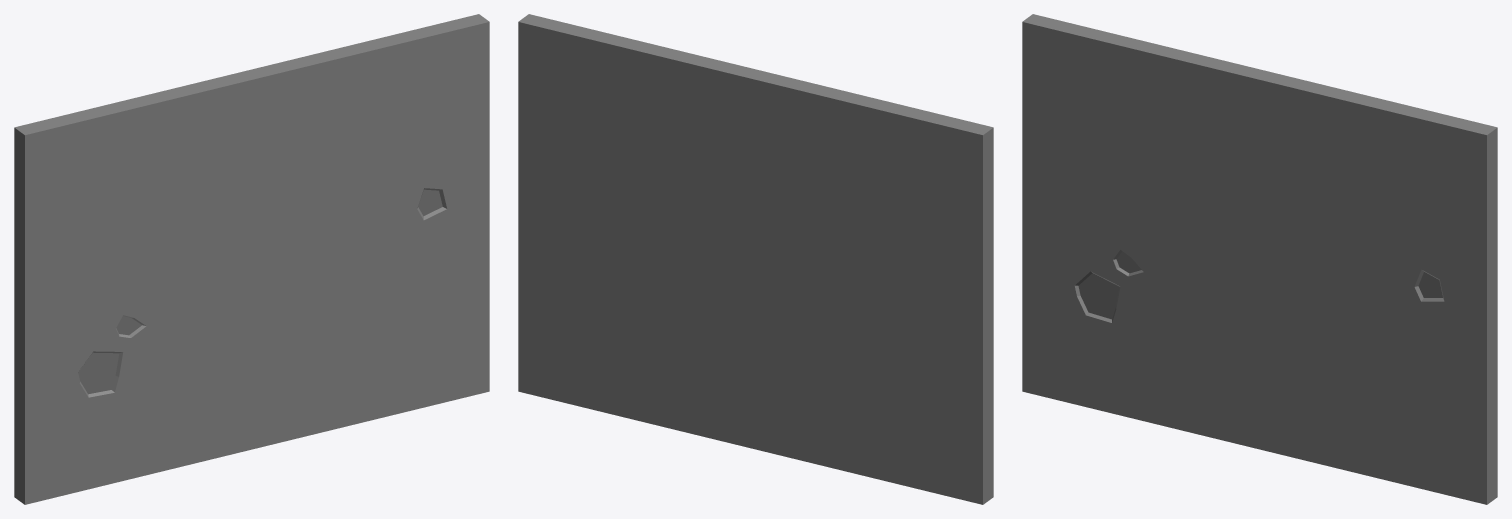
The model's file is Wall_02.fbx.
3 views of the same model, side by side, from view 1: azimuth 30°, elevation 25°; view 2: azimuth 150°, elevation 25°; view 3: azimuth 330°, elevation 25° (orthographic).
Parts seen in each view (by area): view 1: Wall_02; view 2: Wall_02; view 3: Wall_02.
Boxes of the visible parts, left/top/right/bottom form: Wall_02: left=14, top=14, right=489, bottom=504; Wall_02: left=518, top=14, right=993, bottom=504; Wall_02: left=1022, top=14, right=1497, bottom=504.
Bounding box in the file's own units: 500 × 380 × 20.
